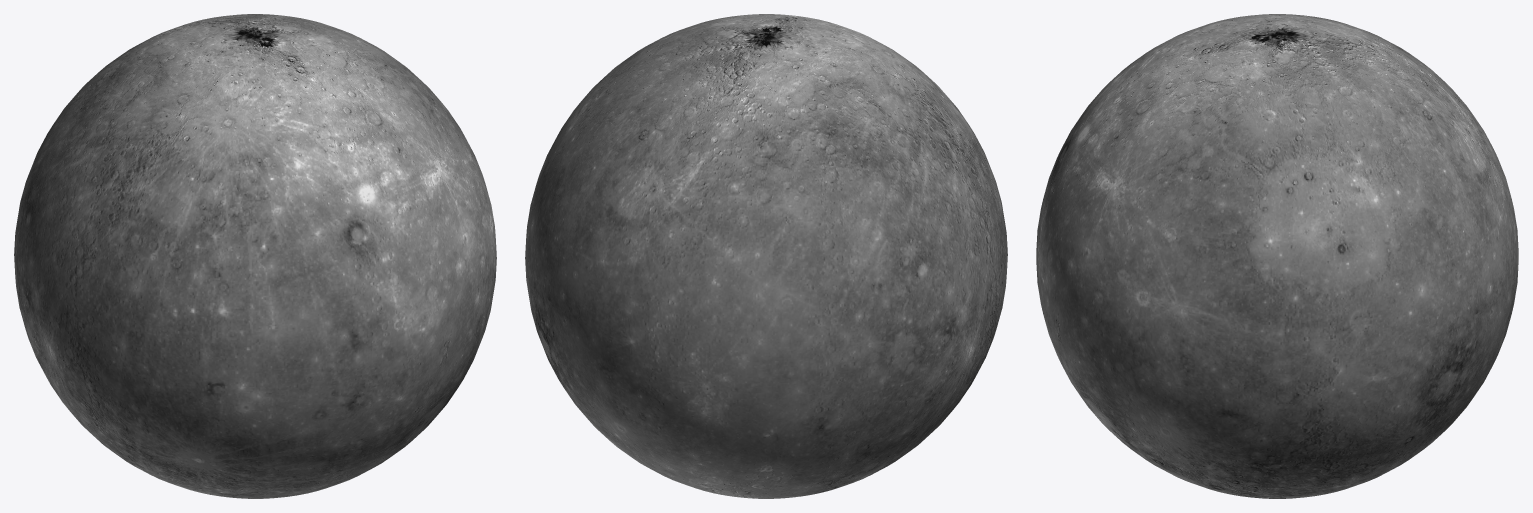
Rendered from mercury.glb.
The picture shows the model from 3 angles, left to right: view 1: azimuth 30°, elevation 25°; view 2: azimuth 150°, elevation 25°; view 3: azimuth 270°, elevation 25°; orthographic projection.
Parts seen in each view (by area): view 1: Sphere; view 2: Sphere; view 3: Sphere.
Boxes of the visible parts, x1,y1,x2,y2 form: Sphere: (14,14,496,498); Sphere: (525,14,1007,498); Sphere: (1036,14,1518,498).
Size of the model in its own units: 1.44 by 1.45 by 1.44.
Materials: 1 (1 with a texture image).
